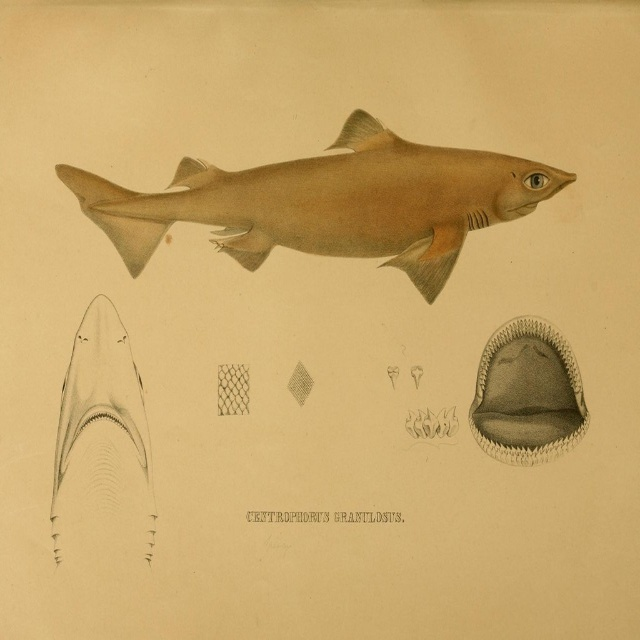Shark: (57, 103, 576, 304)
